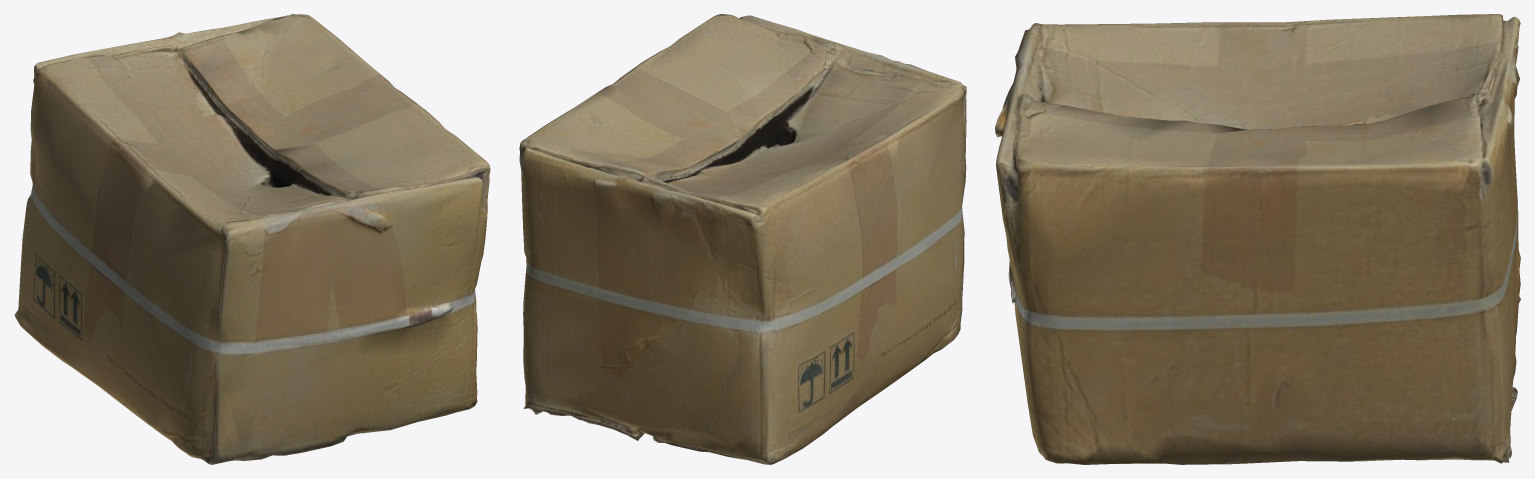
File: cardboard_box_01_1k.gltf
3 renders of one model, left to right at view 1: azimuth 30°, elevation 25°; view 2: azimuth 150°, elevation 25°; view 3: azimuth 270°, elevation 25°, orthographic. The views are drawn at different scales.
Visible parts, largest first — view 1: cardboard_box_01; view 2: cardboard_box_01; view 3: cardboard_box_01.
Boxes of the visible parts, x1=… form: cardboard_box_01: x1=14, y1=14, x2=490, y2=464; cardboard_box_01: x1=519, y1=14, x2=966, y2=464; cardboard_box_01: x1=995, y1=14, x2=1520, y2=464.
Bounding box in the file's own units: 0.3869 × 0.3418 × 0.5159.
1 material, 1 textured.
